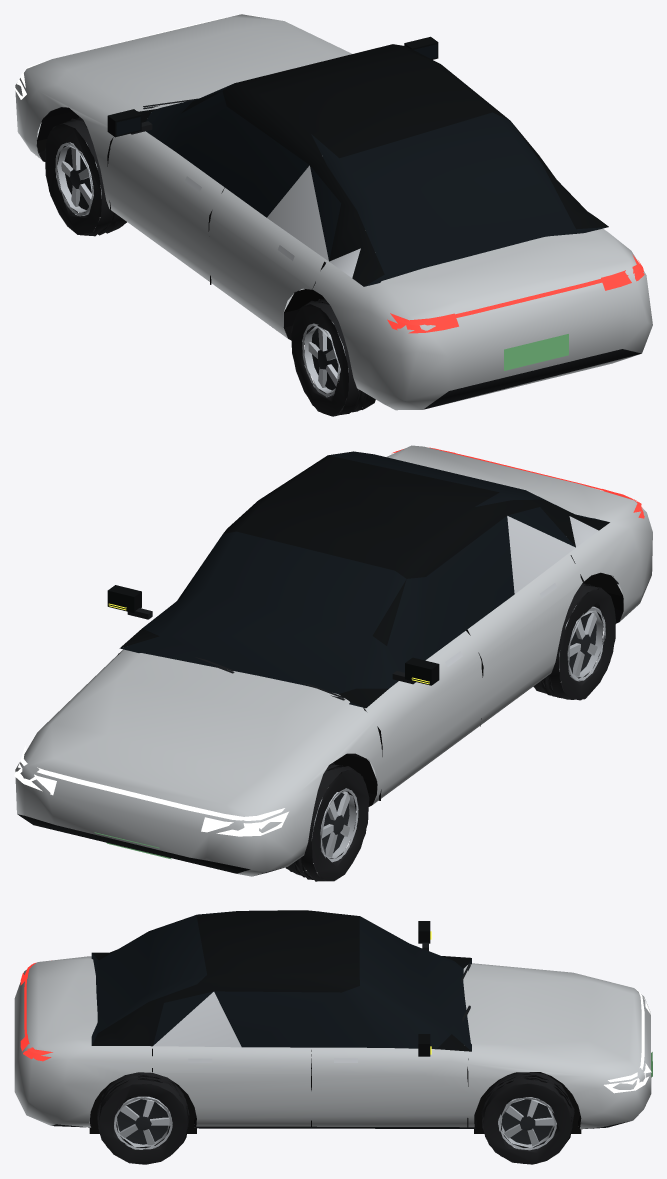
Rendered from gz_sedan_lod2.glb.
The picture shows the model from 3 angles, top to bottom: view 1: azimuth 30°, elevation 25°; view 2: azimuth 150°, elevation 25°; view 3: azimuth 270°, elevation 25°; orthographic projection. The views are drawn at different scales.
Parts seen in each view (by area): view 1: vehicle_lod2; view 2: vehicle_lod2; view 3: vehicle_lod2.
Part boxes in pixels (x1,y1,x2,y2): vehicle_lod2: (14, 14, 652, 416); vehicle_lod2: (14, 445, 652, 881); vehicle_lod2: (14, 910, 652, 1164).
Size of the model in its own units: 2.19 by 1.45 by 4.82.
